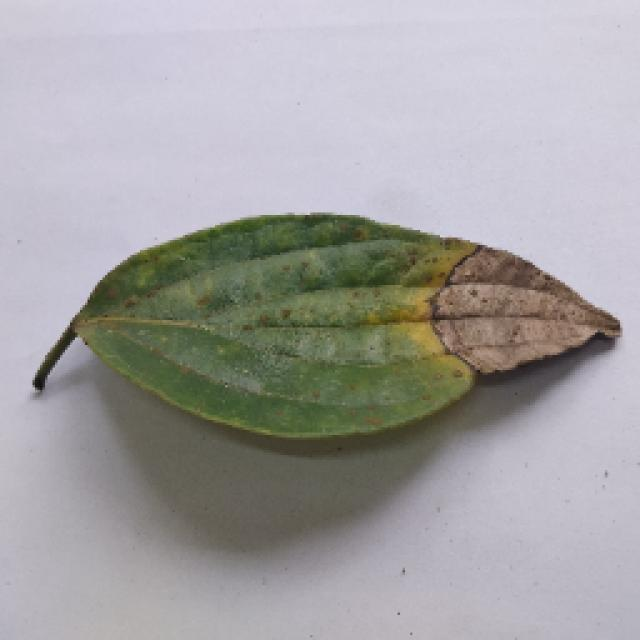footrot: (30, 210, 618, 435)
